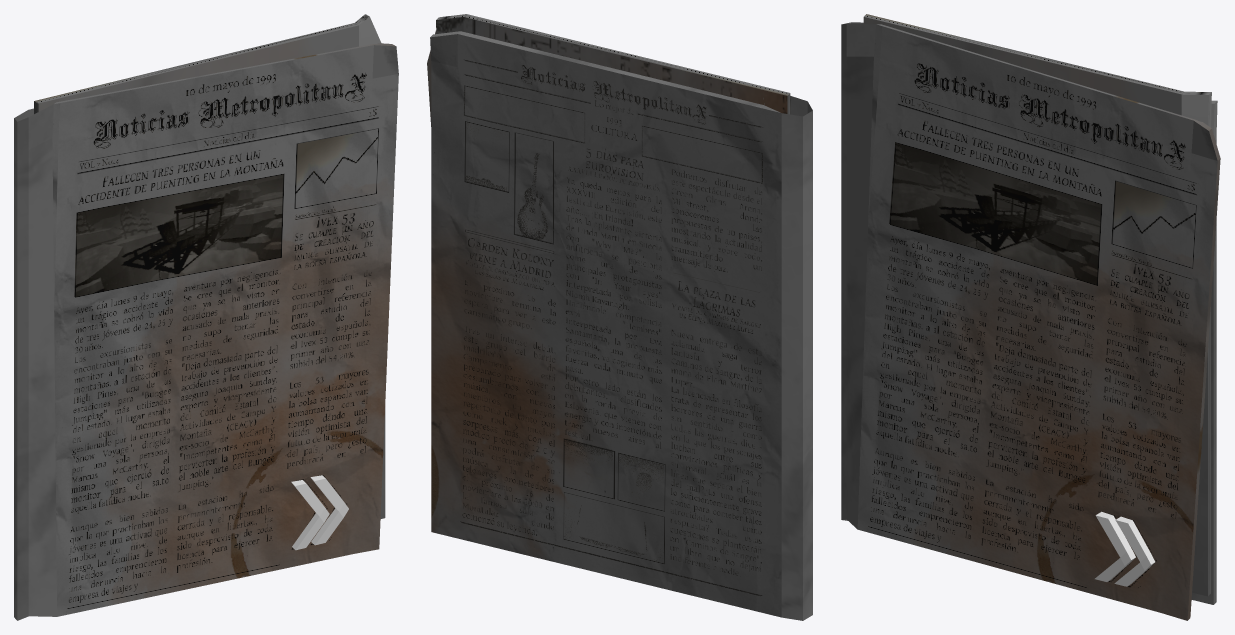
Rendered from periodico smooth.fbx.
3 renders of one model, left to right at view 1: azimuth 30°, elevation 25°; view 2: azimuth 150°, elevation 25°; view 3: azimuth 330°, elevation 25°, orthographic.
Visible parts, largest first — view 1: Cube, Cube.001; view 2: Cube; view 3: Cube, Cube.001.
Boxes of the visible parts, x1,y1,x2,y2 form: Cube: [14, 14, 398, 620]; Cube.001: [291, 475, 348, 550]; Cube: [427, 14, 812, 620]; Cube: [841, 14, 1220, 620]; Cube.001: [1095, 511, 1155, 586].
Size of the model in its own units: 219 by 288 by 29.91.
